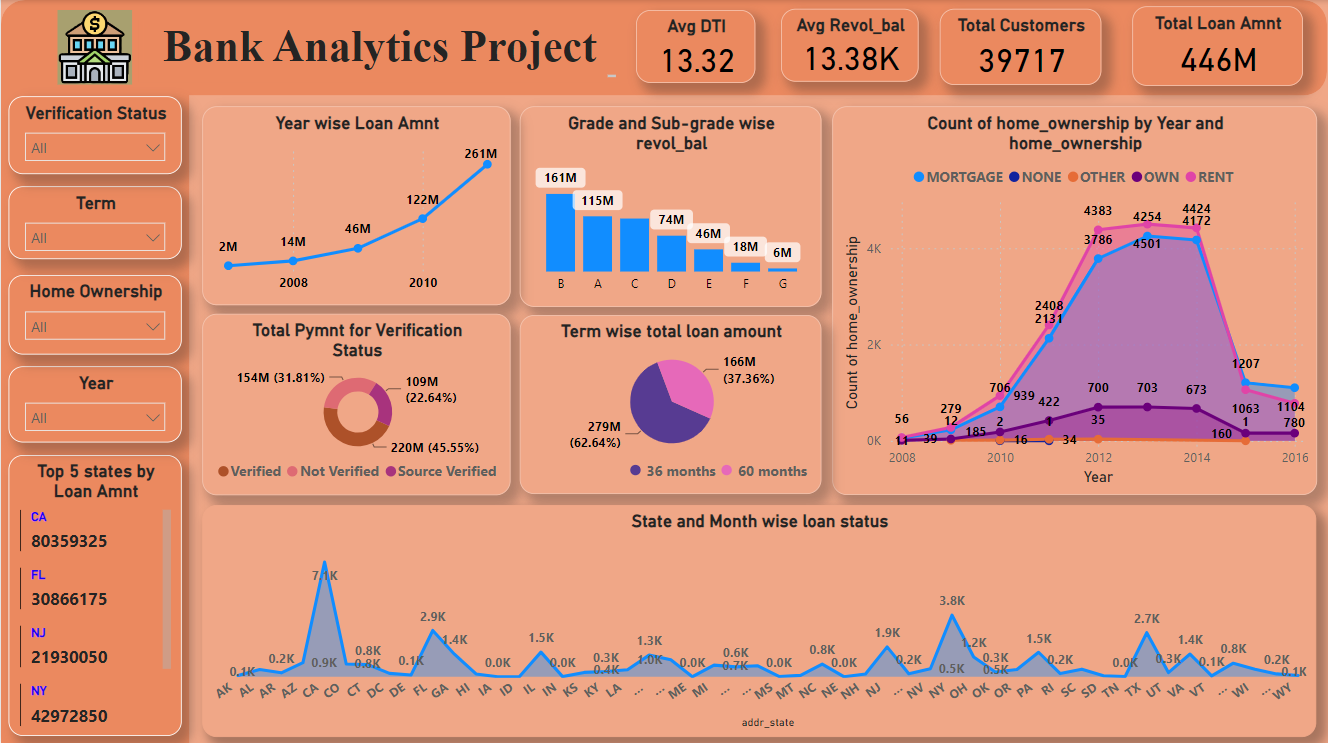

What the dashboard file says about the page in this screenshot:
{"tool":"tableau","page":{"name":"Dashboard 1","canvas":[1000,1000],"units":"permille","ordinal":0},"visuals":[{"type":"image","param":"Image/bank.png","box":[3,8.2,52.2,98.7]},{"type":"worksheet","title":"KPI 5","mark":"Automatic","rows":["last_pymnt_amnt"],"cols":["last_pymnt_d"],"box":[670.9,8.2,325.5,471.2]},{"type":"filter","title":"KPI 1","param":"[federated.1c0ngw003mx1r51dfnvrl0tm3n2h].[none:loan_status:nk]","box":[455.6,22.3,96.5,68.2]},{"type":"filter","title":"KPI 5","param":"[federated.1c0ngw003mx1r51dfnvrl0tm3n2h].[none:home_ownership:nk]","box":[561.8,22.3,95.9,71.7]},{"type":"text","box":[64.8,34.1,379.5,59.9]},{"type":"legend","title":"KPI 5","param":"[federated.1c0ngw003mx1r51dfnvrl0tm3n2h].[none:home_ownership:nk]","box":[673.9,61.1,66,128.1]},{"type":"worksheet","title":"KPI 2","mark":"Shape","rows":["revol_bal"],"cols":["grade"],"box":[3.6,115.2,309.4,880.1]},{"type":"worksheet","title":"KPI 1","mark":"Line","rows":["loan_amnt"],"cols":["issue_d"],"box":[316.6,115.2,173.9,365.4]},{"type":"worksheet","title":"KPI 3","mark":"Pie","rows":["Calculation_211669193143468032","Calculation_211669193143468032"],"box":[493.4,115.2,173.3,364.3]},{"type":"worksheet","title":"Total","mark":"Automatic","box":[233.2,181,66.5,386.6]},{"type":"worksheet","title":"KPI 4","mark":"Bar","rows":["loan_status"],"cols":["addr_state"],"box":[315.9,486.5,681.1,507.6]},{"type":"filter","title":"KPI 2","param":"[federated.1c0ngw003mx1r51dfnvrl0tm3n2h].[yr:issue_d:ok]","box":[891.5,566.4,96.5,69.3]},{"type":"legend","title":"KPI 4","param":"[federated.1c0ngw003mx1r51dfnvrl0tm3n2h].[yr:issue_d:ok]","box":[503,580.5,363.9,32.9]}]}

Visuals, with their boxes on the dashboard's canvas, which has no fixed pixel size, in thousandths of its width and height (x1, y1, x2, y2). These are canvas units, not pixel positions in the 1328x743 screenshot, which may show the page scaled, cropped or inside an application window:
image: <box>3,8,55,107</box>
"KPI 5" worksheet: <box>671,8,996,479</box>
"KPI 1" filter: <box>456,22,552,90</box>
"KPI 5" filter: <box>562,22,658,94</box>
text: <box>65,34,444,94</box>
"KPI 5" legend: <box>674,61,740,189</box>
"KPI 2" worksheet (Shape marks): <box>4,115,313,995</box>
"KPI 1" worksheet (Line marks): <box>317,115,490,481</box>
"KPI 3" worksheet (Pie marks): <box>493,115,667,480</box>
"Total" worksheet: <box>233,181,300,568</box>
"KPI 4" worksheet (Bar marks): <box>316,486,997,994</box>
"KPI 2" filter: <box>892,566,988,636</box>
"KPI 4" legend: <box>503,580,867,613</box>
